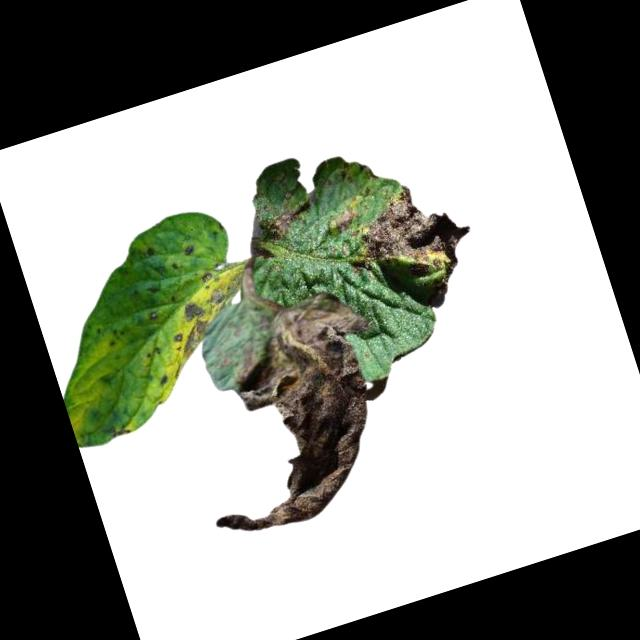Early_blight: (157, 283, 422, 546), (345, 167, 484, 299), (152, 265, 263, 370), (246, 200, 317, 247), (327, 202, 358, 234), (178, 239, 197, 257), (154, 372, 169, 386), (146, 308, 160, 322)
